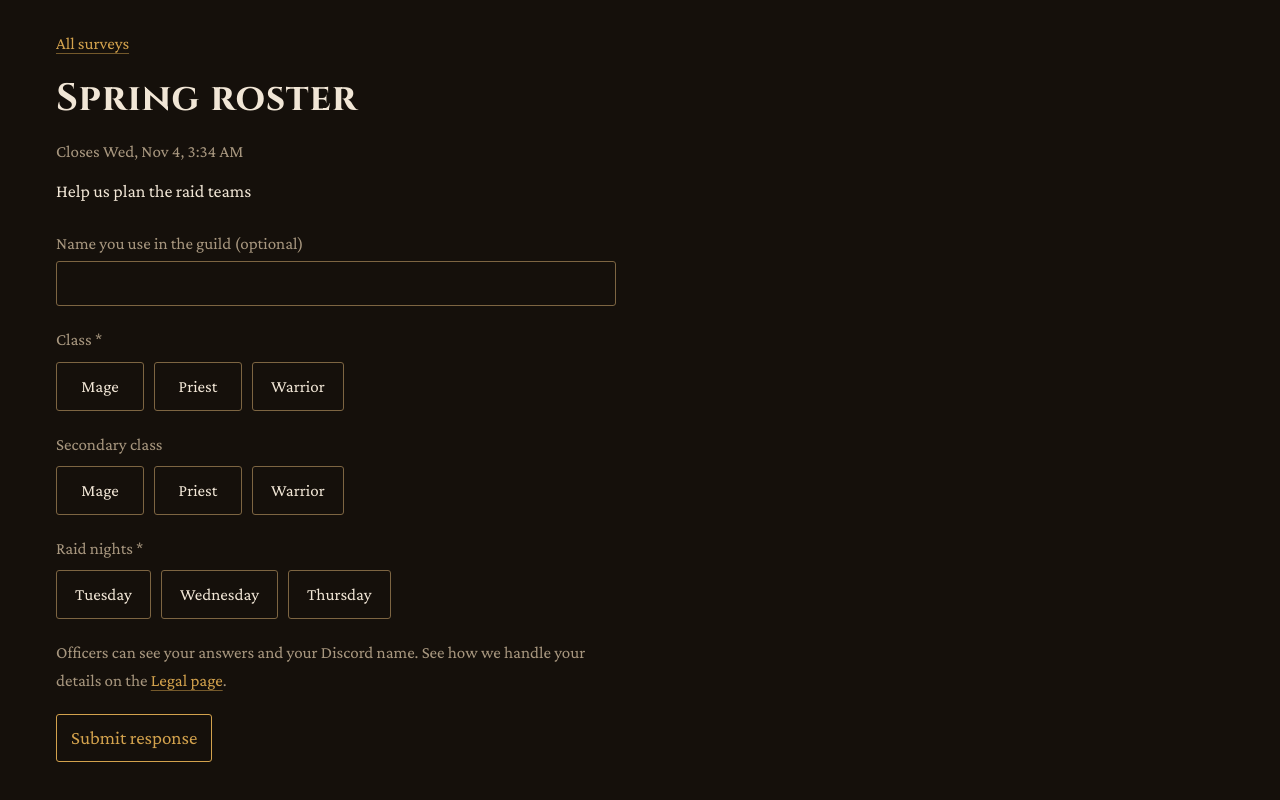
it: Survey › should leave the optional question out of the request when the member clears their secondary choice
This screenshot has width=1280, height=800.
Expected: the button "Submit response" is shown, [56,714,212,762]
Click the 1st radio button labelled "Mage" at (100, 386), box [56,362,144,411]
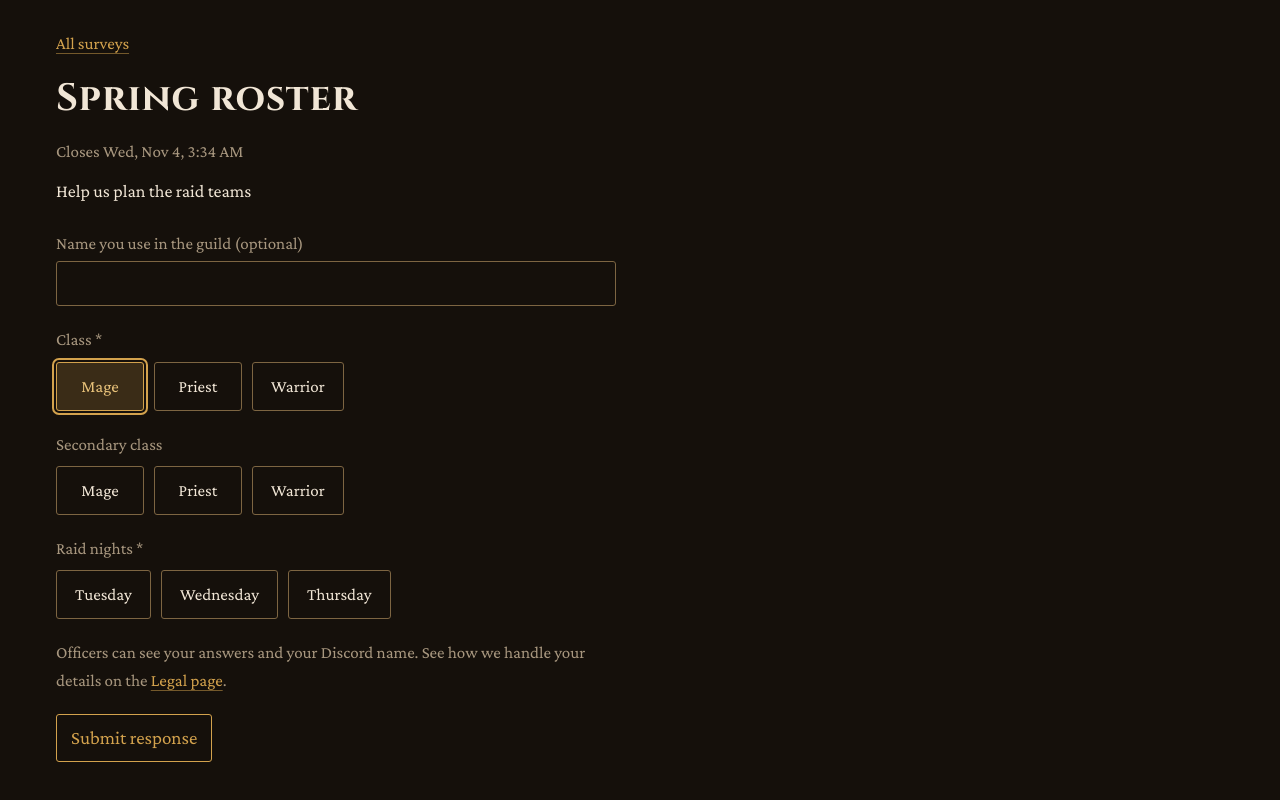
Click the radio button labelled "Priest" below "Secondary class" at (198, 490), box [154,466,242,515]
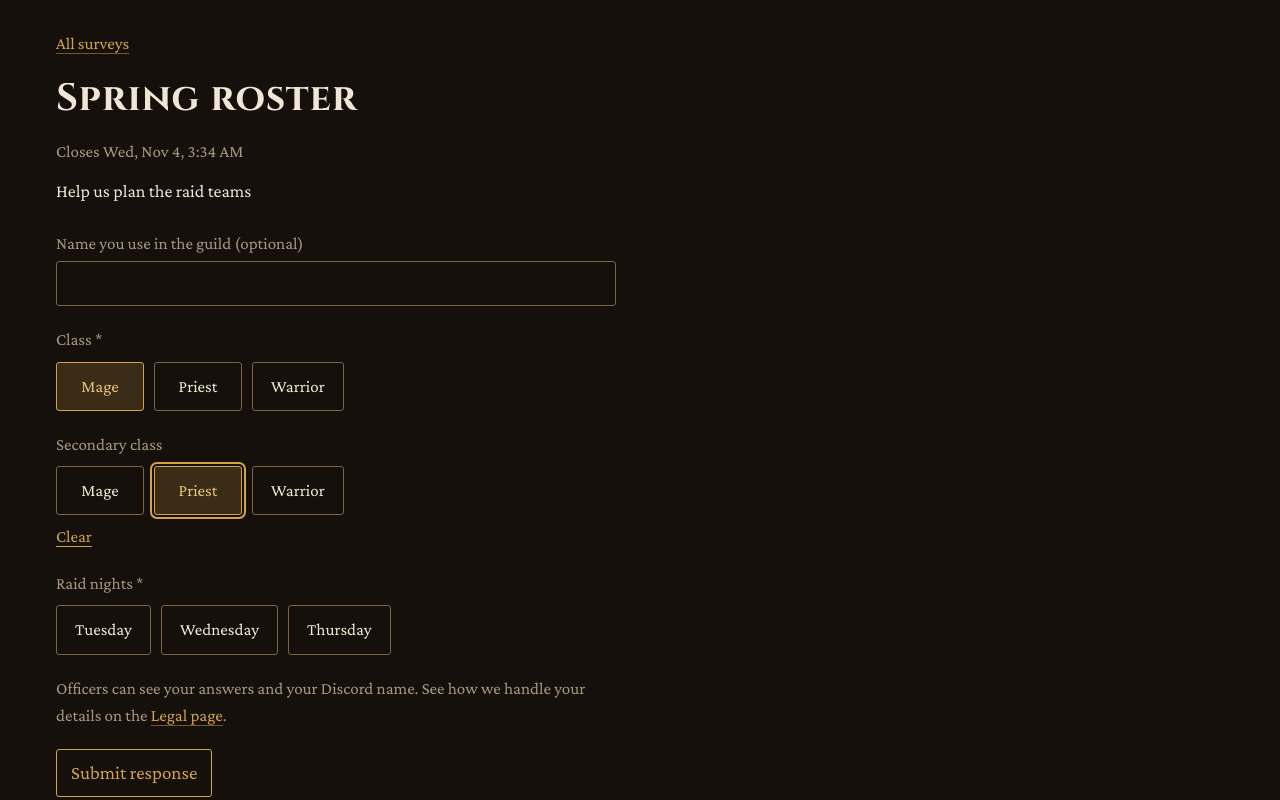
Click the button with aria-label "Clear Secondary class" at (74, 537), box [56,523,92,550]
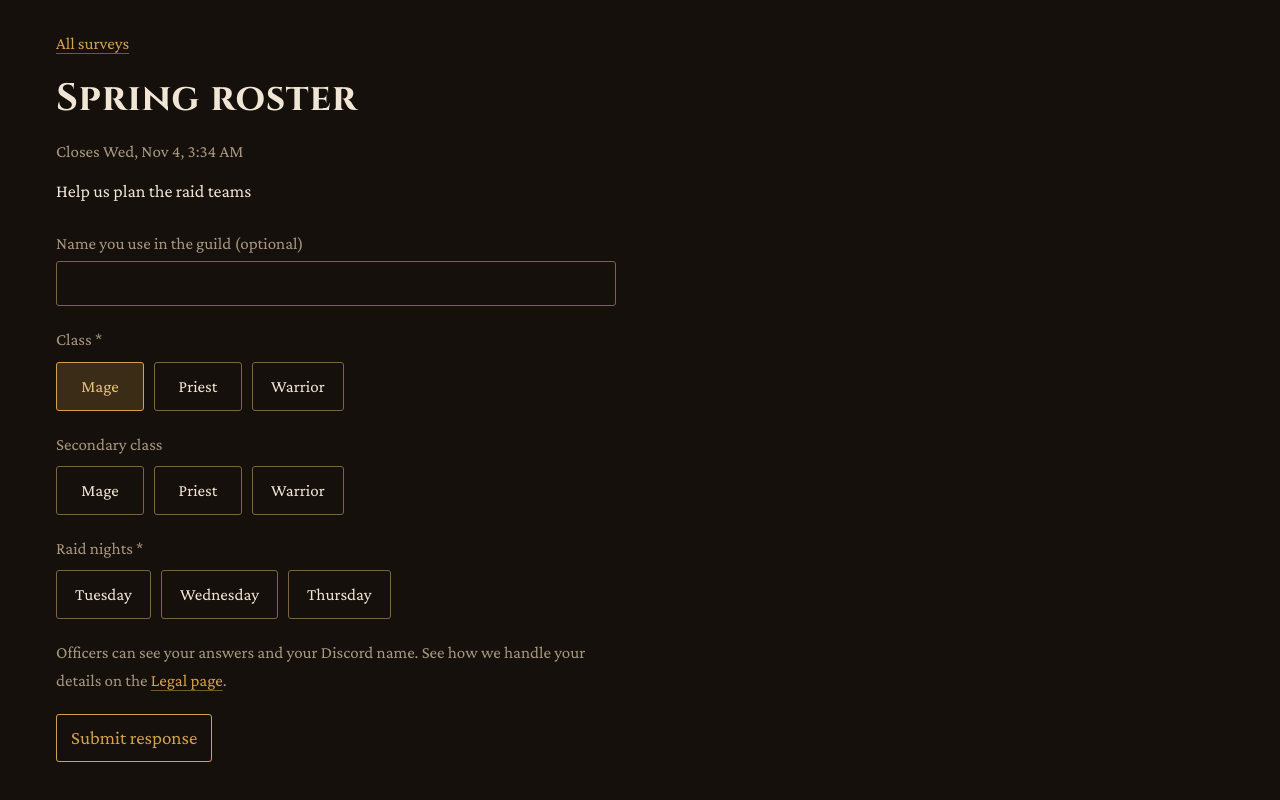
Click the checkbox labelled "Tuesday" at (103, 595), box [56,570,151,620]
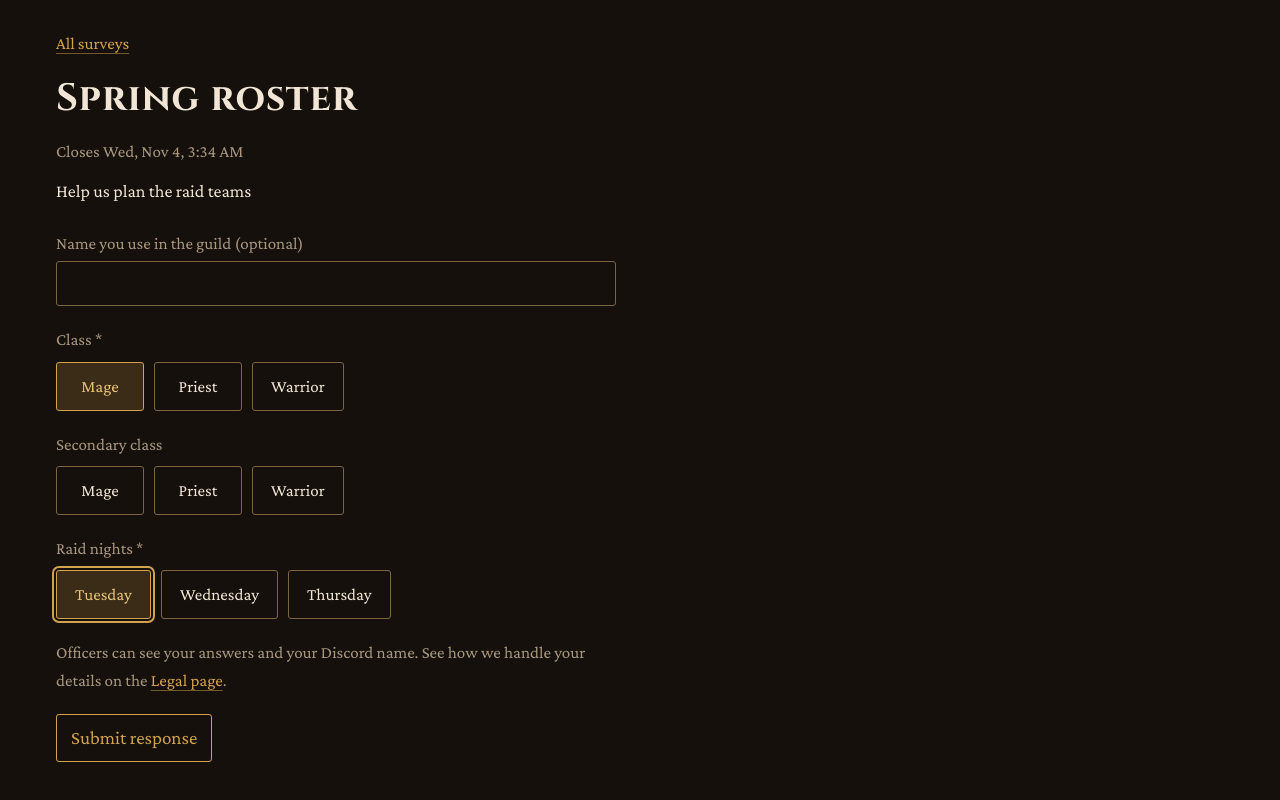
Click the button "Submit response" at (134, 738), box [56,714,212,762]
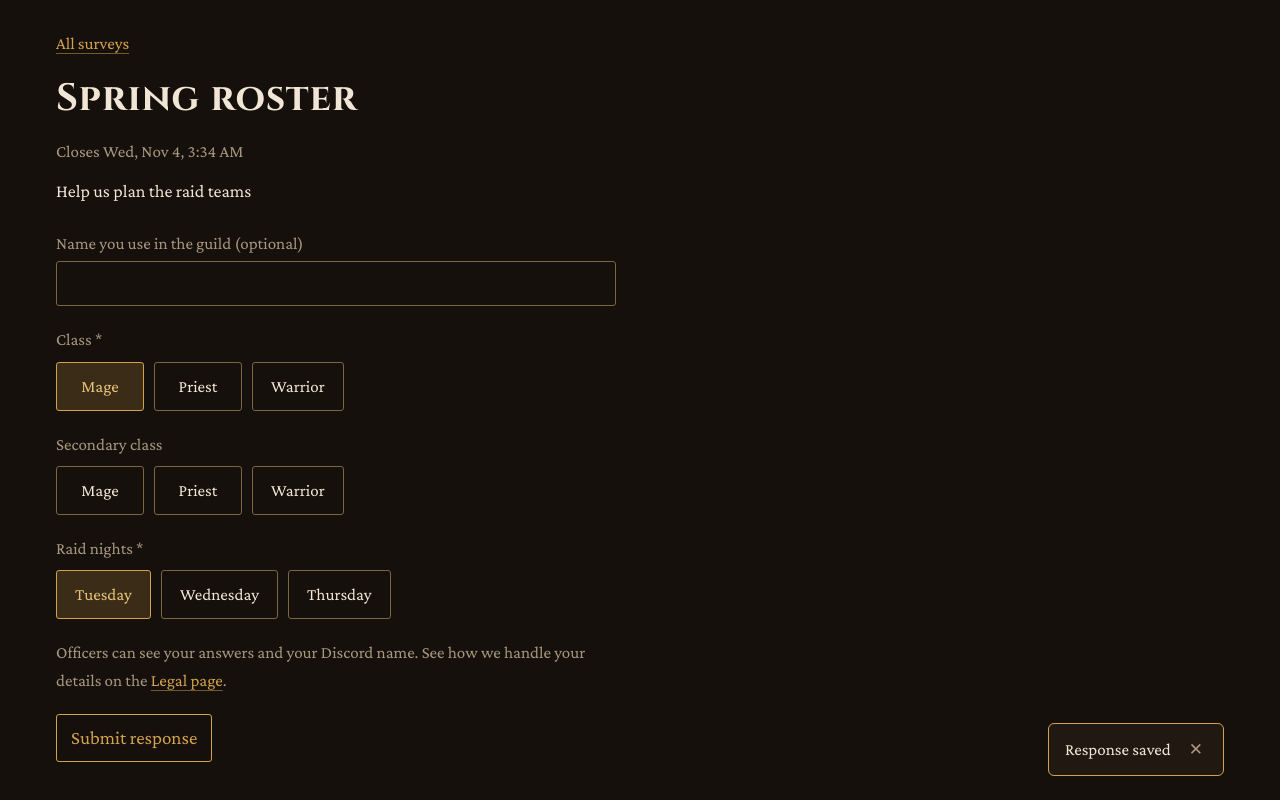
Now the text "Response saved" is shown, box [1065,736,1171,763]
